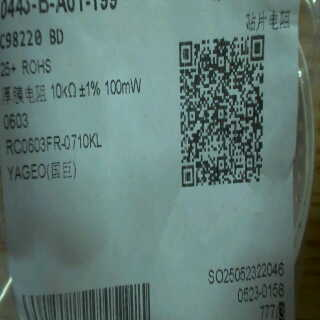10kR: (49, 77, 77, 104)
